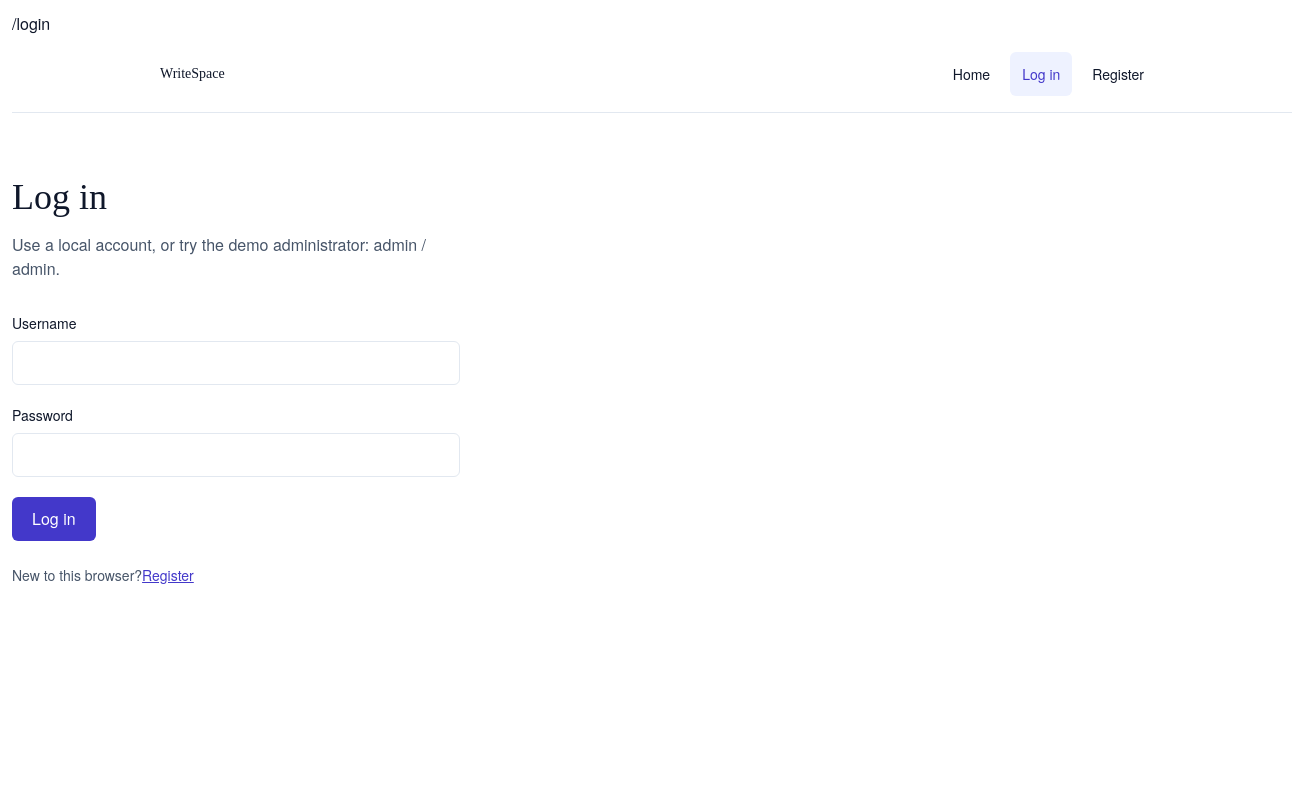
auth forms › uses password input semantics and retains wrong credentials without navigating
This screenshot has width=1292, height=812.
Type "admin" into the field labelled "Username". click: (236, 363)
box: [12,341,460,385]
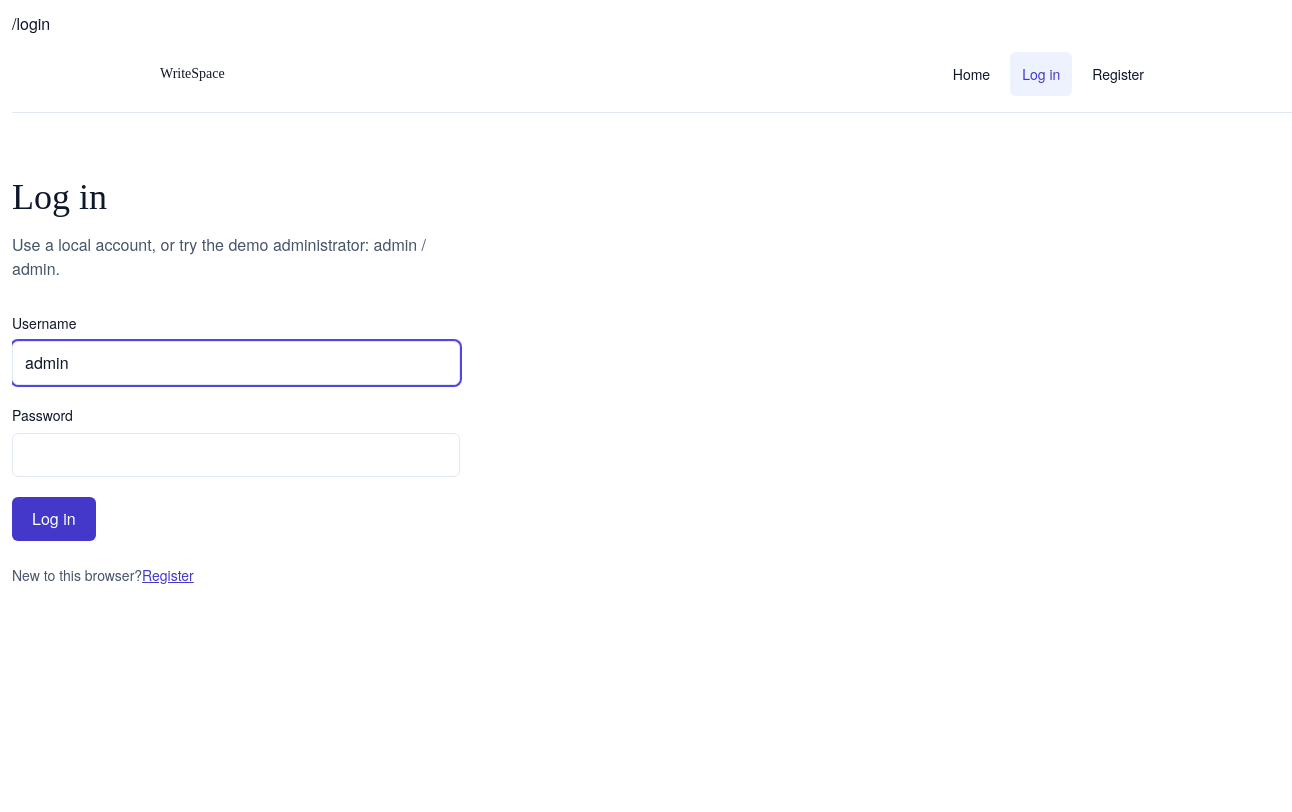
Type "wrong" into the password field labelled "Password". click: (236, 455)
box: [12,433,460,477]
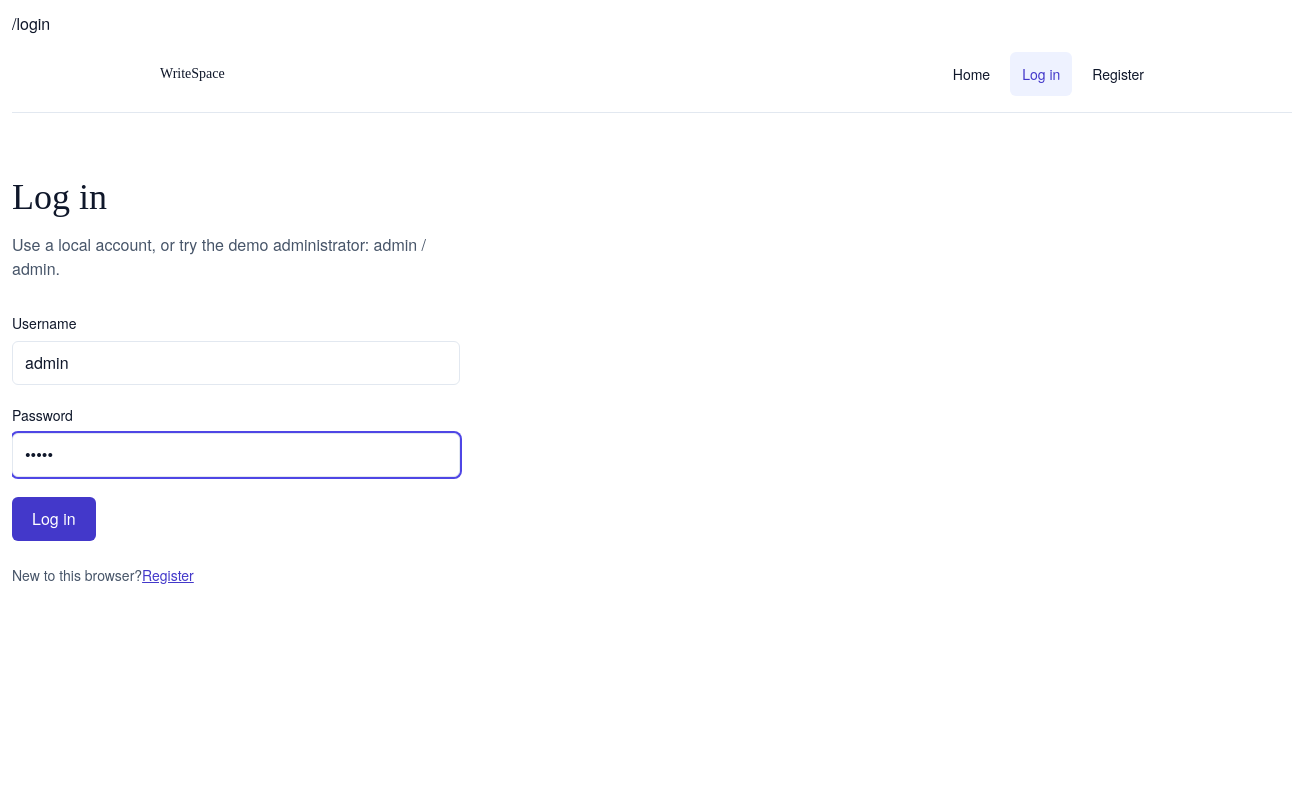
Click the button "Log in". click: (54, 519)
box: [12,497,96,541]
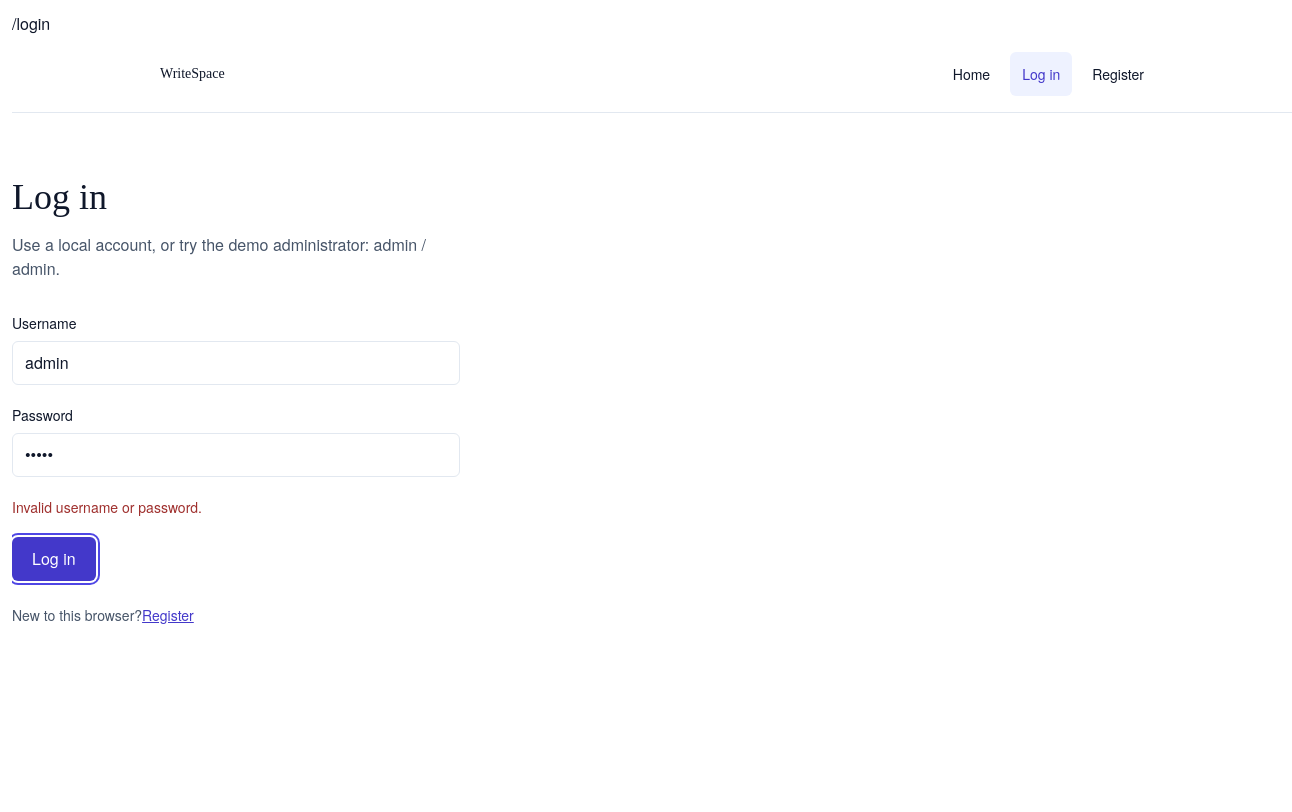
Check: the message shows "Invalid username or password", box [12,497,202,517]
